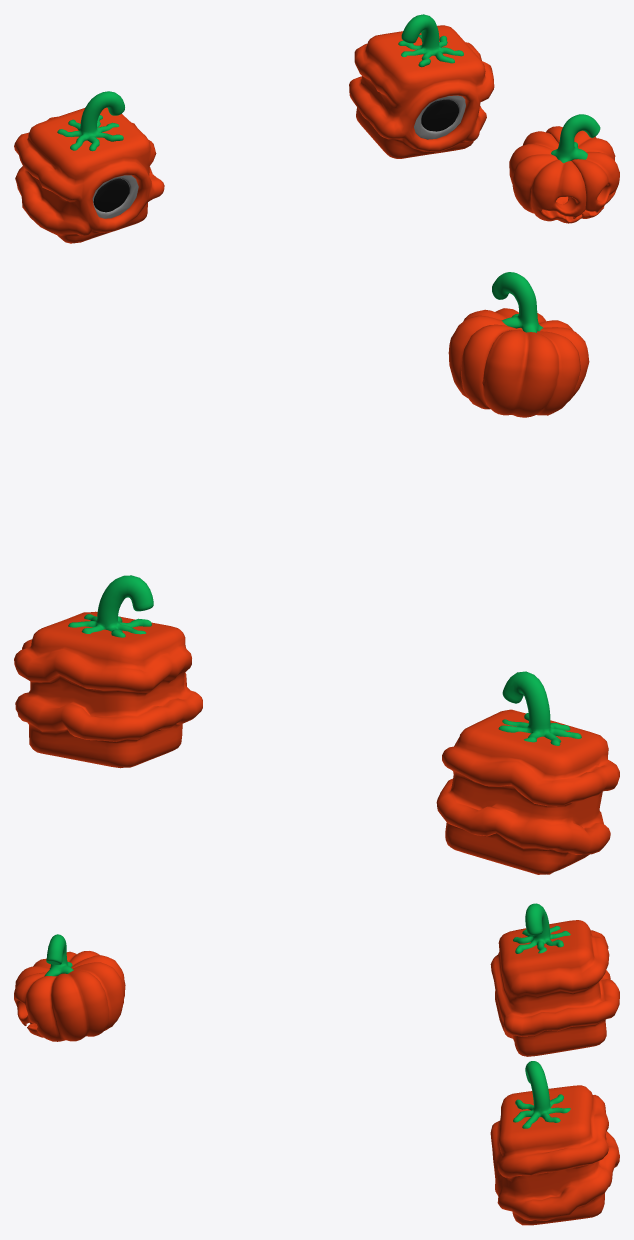
The model's file is pumpkinroom-v1.glb.
3 renders of one model, top to bottom at view 1: azimuth 30°, elevation 25°; view 2: azimuth 150°, elevation 25°; view 3: azimuth 270°, elevation 25°, orthographic. The views are drawn at different scales.
Visible parts, largest first — view 1: Retopo_geom.007, Retopo_geom.017, Retopo_geom.004, Retopo_geom.013, Retopo_geom.005, Retopo_geom.006, Retopo_geom.012; view 2: Retopo_geom.007, Retopo_geom.017, Retopo_geom.004, Retopo_geom.013, Retopo_geom.012; view 3: Retopo_geom.007, Retopo_geom.013, Retopo_geom.004, Retopo_geom.017, Retopo_geom.012.
Part boxes in pixels (left/top/right/bottom): Retopo_geom.007: left=14, top=25, right=494, bottom=243; Retopo_geom.017: left=509, top=131, right=586, bottom=223; Retopo_geom.004: left=57, top=14, right=463, bottom=151; Retopo_geom.013: left=546, top=126, right=619, bottom=218; Retopo_geom.005: left=93, top=99, right=458, bottom=212; Retopo_geom.006: left=92, top=95, right=465, bottom=218; Retopo_geom.012: left=551, top=114, right=600, bottom=163; Retopo_geom.007: left=14, top=611, right=619, bottom=874; Retopo_geom.017: left=482, top=320, right=589, bottom=417; Retopo_geom.004: left=68, top=575, right=581, bottom=745; Retopo_geom.013: left=448, top=308, right=545, bottom=409; Retopo_geom.012: left=492, top=272, right=543, bottom=332; Retopo_geom.007: left=490, top=920, right=619, bottom=1225; Retopo_geom.013: left=14, top=962, right=124, bottom=1041; Retopo_geom.004: left=513, top=903, right=570, bottom=1128; Retopo_geom.017: left=15, top=951, right=125, bottom=1023; Retopo_geom.012: left=44, top=934, right=73, bottom=976.
Size of what is drawn, in the model's own units: 3.21 by 1.53 by 3.61.
